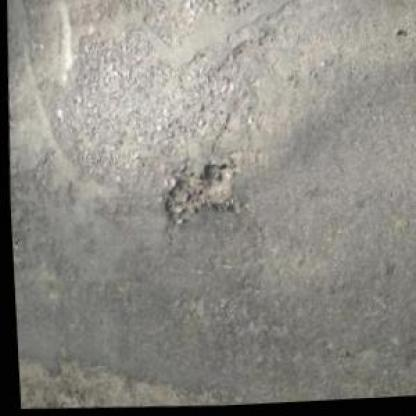pothole: (155, 157, 236, 226)
